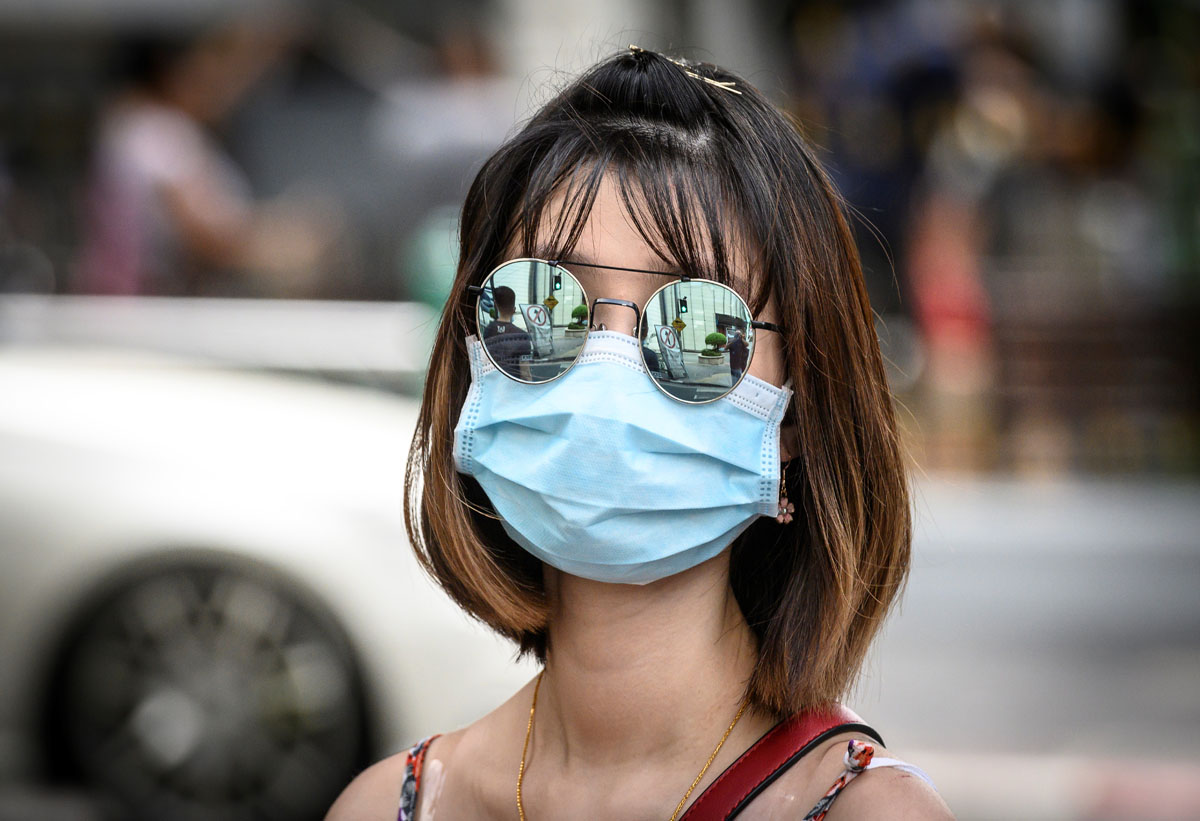surgical: (455, 327, 797, 595)
